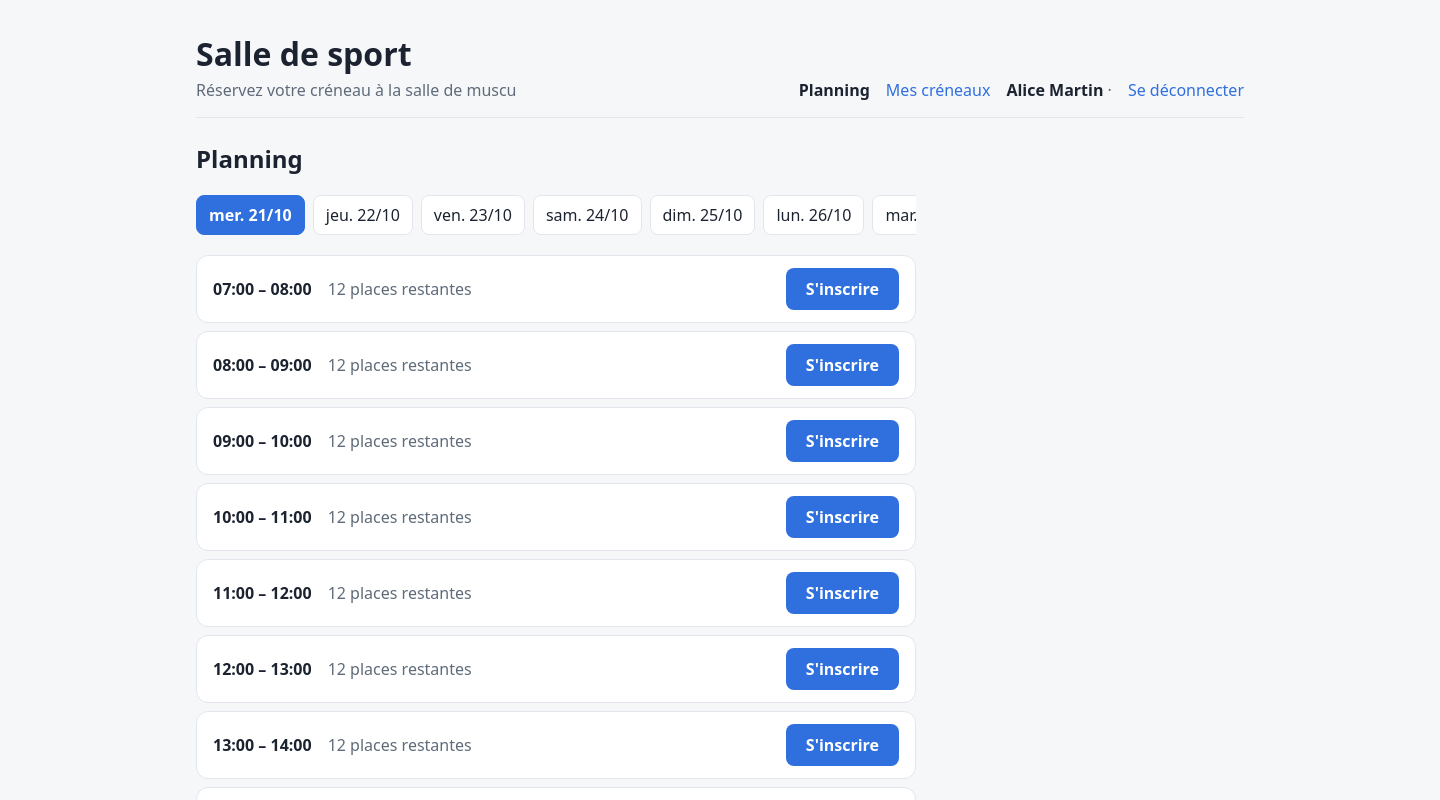
Test: PlanningPage, booking › shows the slot as booked once the API has answered
Expected: the text "Alice Martin" is shown, [1006,79,1112,101]
Expected: the text "07:00 – 08:00" is shown, [213,278,312,300]
Click the button "S'inscrire" in the row of "11:00 – 12:00" at {"x": 842, "y": 593}, box [786,572,899,614]
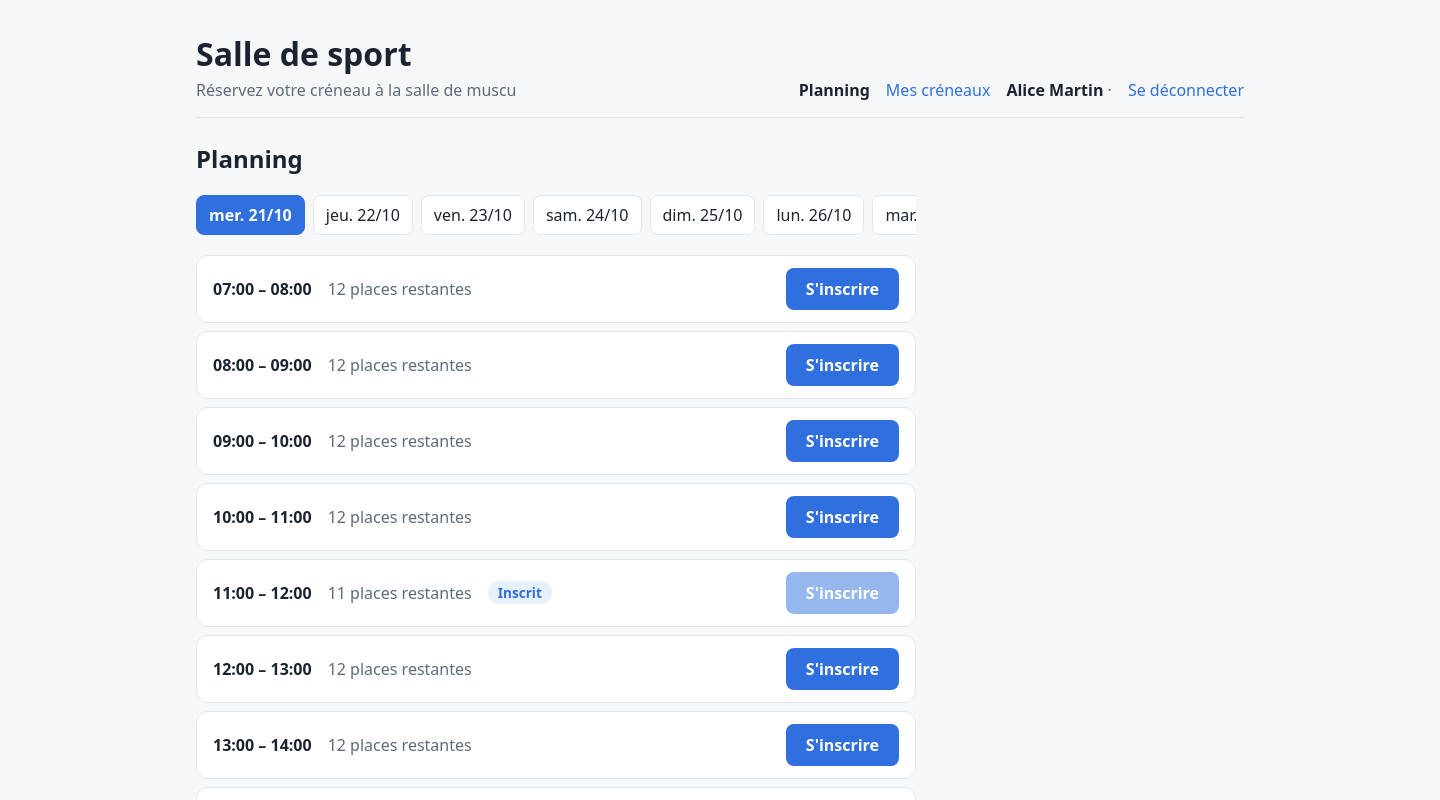
Now the text "Inscrit" is shown, box [488,581,552,604]
Now the text "11 places restantes" is shown, box [328,582,472,604]
